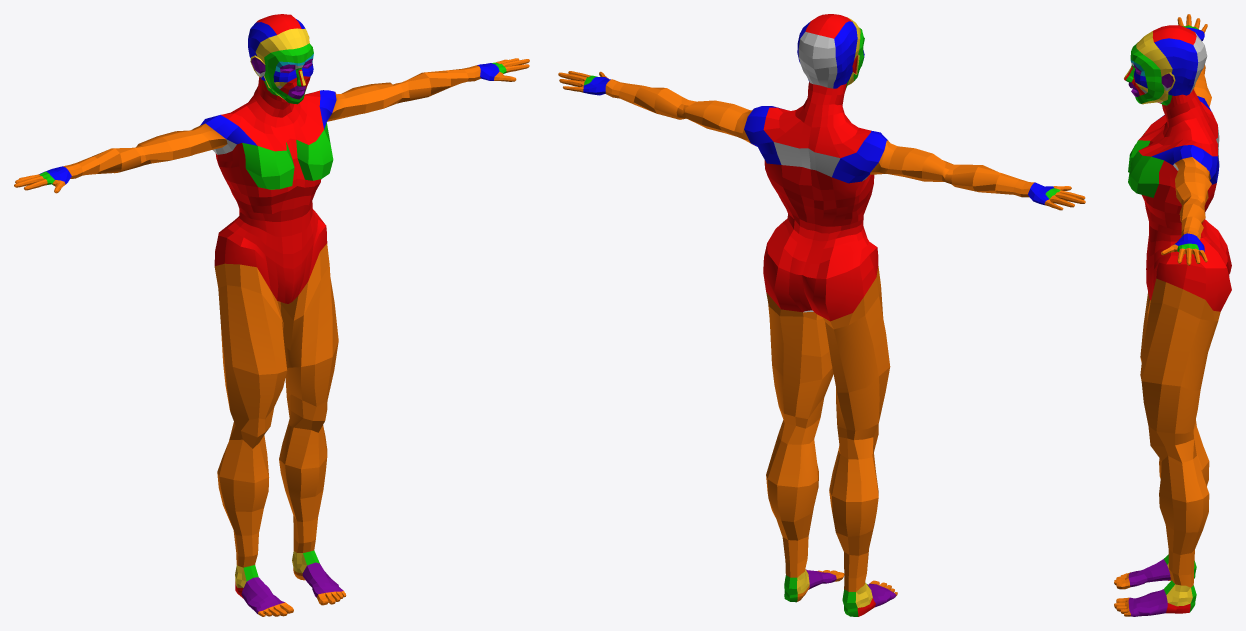
The model's file is sarah.obj.
3 views of the same model, side by side, from view 1: azimuth 30°, elevation 25°; view 2: azimuth 150°, elevation 25°; view 3: azimuth 270°, elevation 25° (orthographic). The views are drawn at different scales.
Visible parts, largest first — view 1: polySurface7; view 2: polySurface7; view 3: polySurface7.
Part boxes in pixels (left/top/right/bottom): polySurface7: left=14, top=14, right=529, bottom=616; polySurface7: left=558, top=14, right=1085, bottom=616; polySurface7: left=1114, top=14, right=1231, bottom=616.
Bounding box in the file's own units: 31.63 × 33.58 × 6.31.
